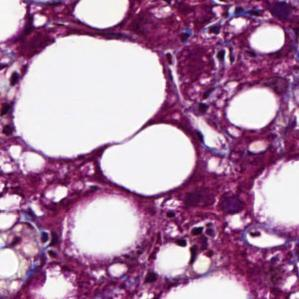inflammation: (175, 213, 220, 250), (30, 224, 67, 263)
